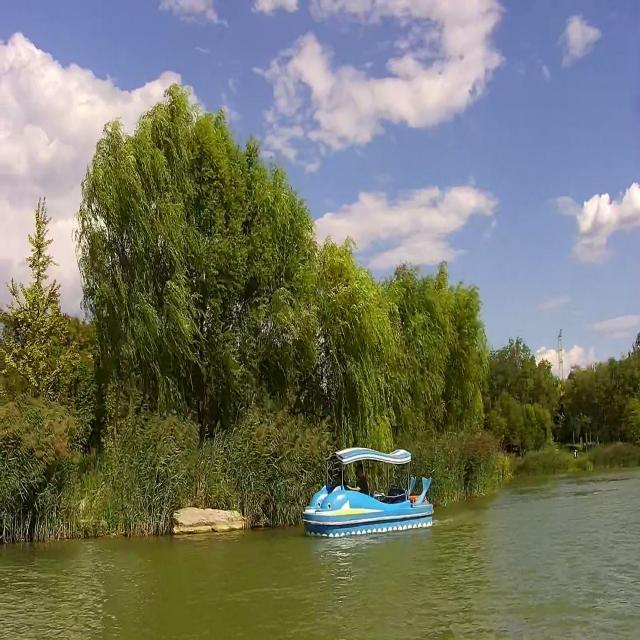ship2: (304, 452, 434, 538)
